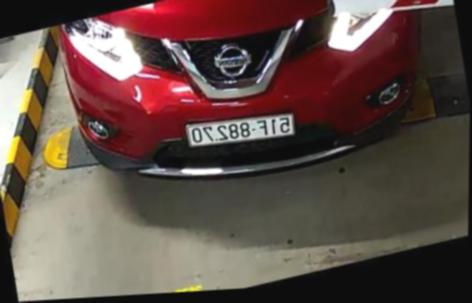License_Plate: (185, 107, 298, 152)
